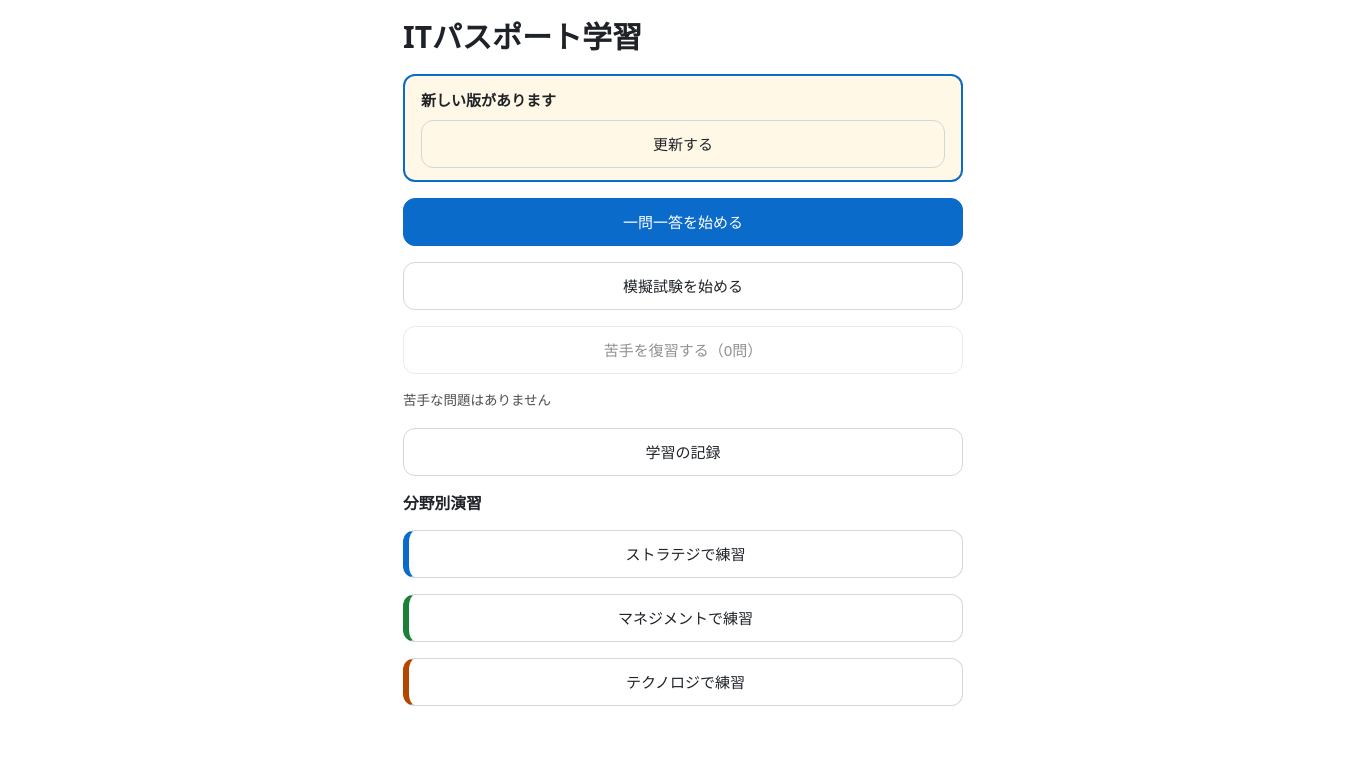
Test: 新しい版の更新の案内 › 解答中は表示せず、トップに戻ると、また表示される
What coordinates should you click on to do the following:
click the button "一問一答を始める"
I would click on:
 (683, 222)
Its box is [403,198,963,246].
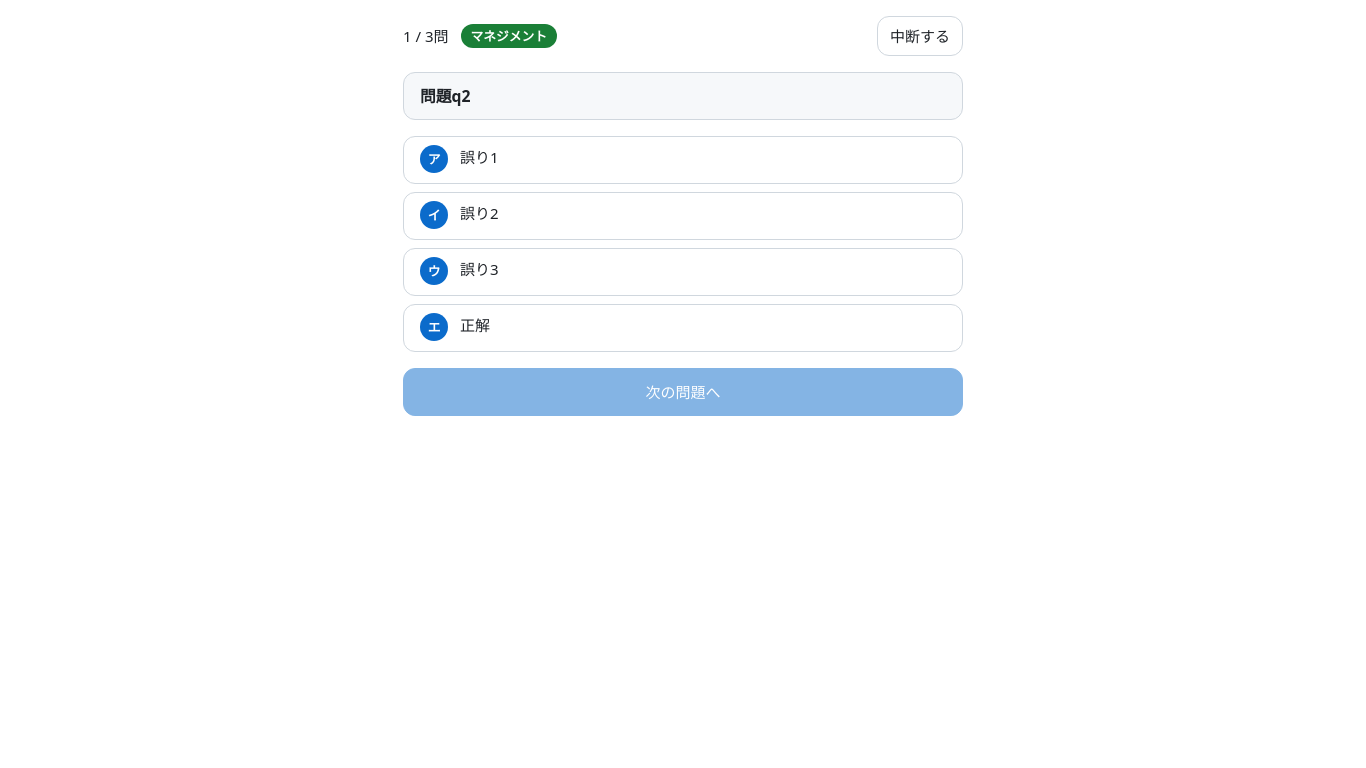
Now the text "新しい版があります" is gone
What coordinates should you click on to do the following:
click the button "中断する"
I would click on:
 (920, 36)
Its box is [877,16,963,56].
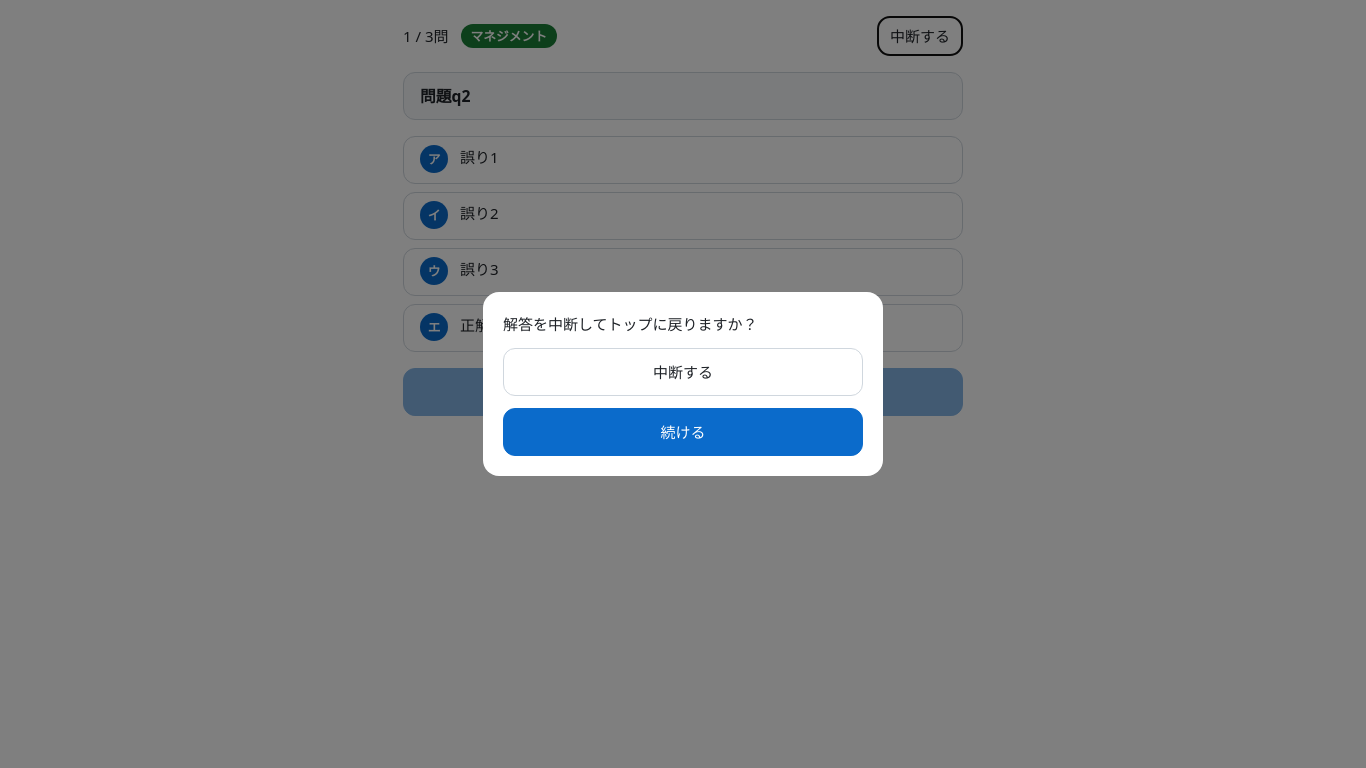
What coordinates should you click on to do the following:
click the button "中断する"
I would click on:
 (683, 372)
Its box is [503,348,863,396].
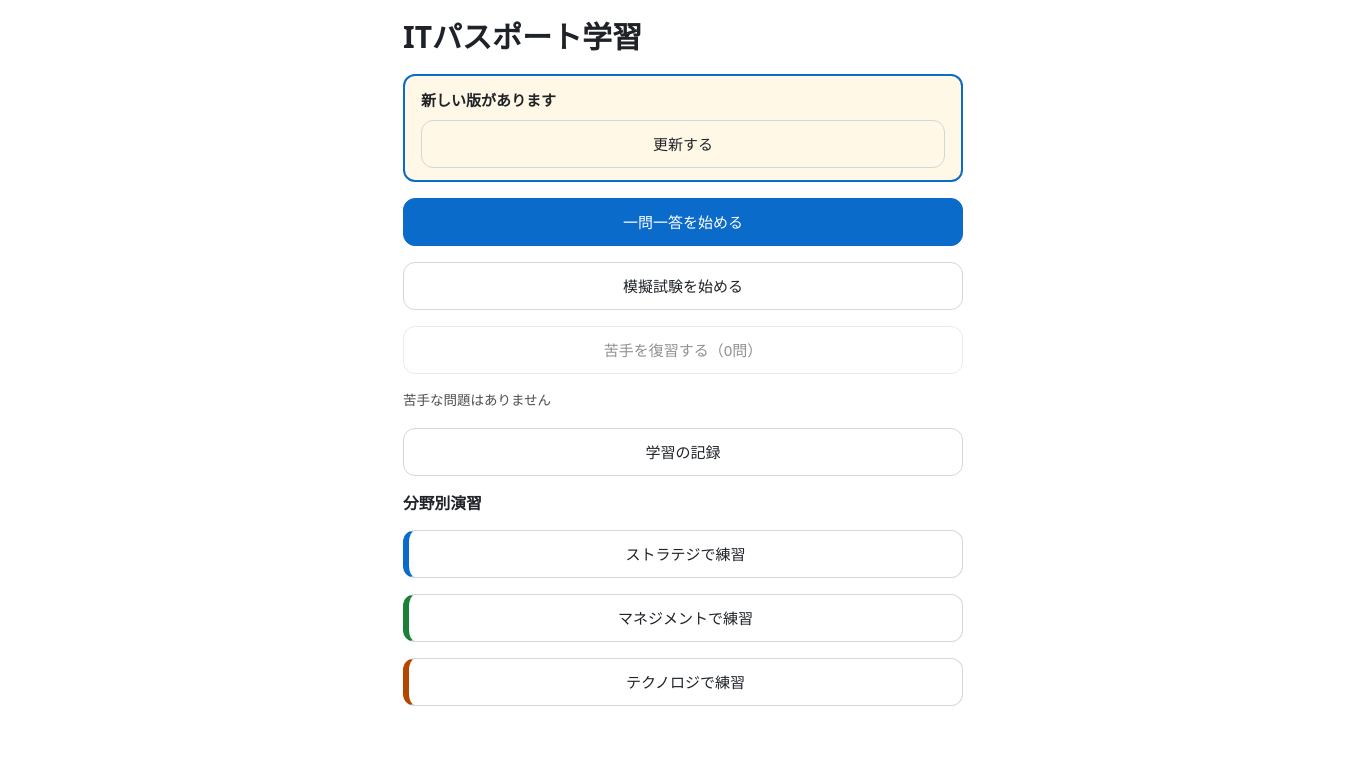
Now the text "新しい版があります" is shown, box [421,90,556,110]
